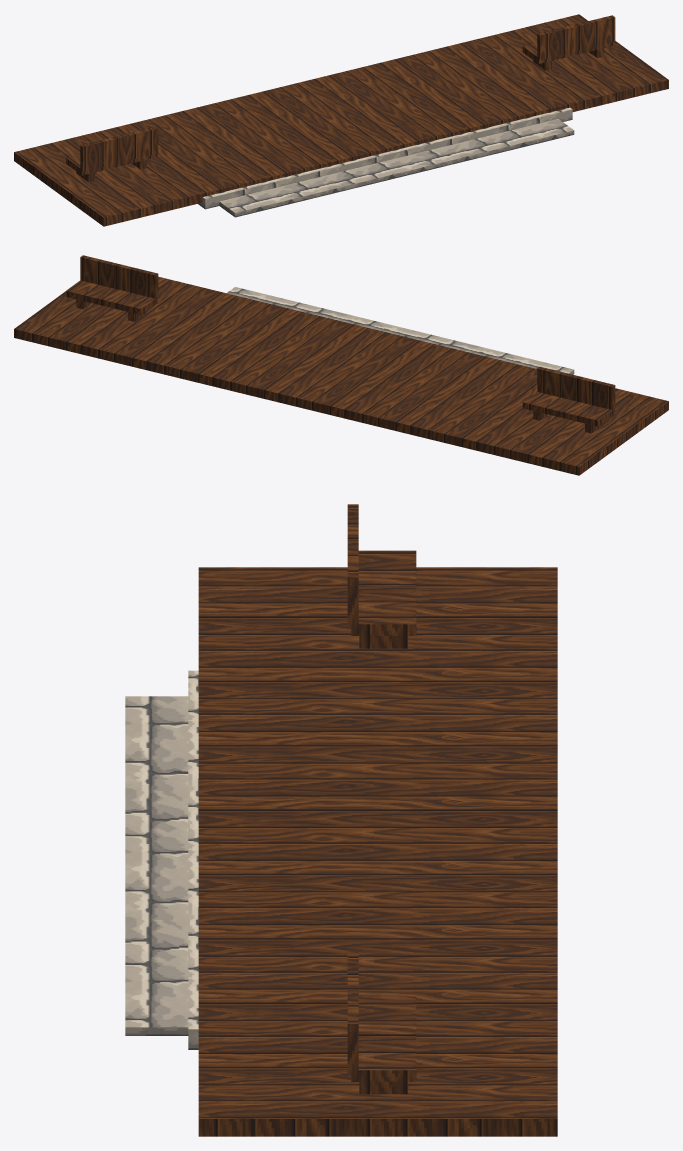
The model's file is SM_GuildHall_Porch.fbx.
3 views of the same model, one above another, from view 1: azimuth 30°, elevation 25°; view 2: azimuth 150°, elevation 25°; view 3: azimuth 270°, elevation 25° (orthographic). The views are drawn at different scales.
Parts seen in each view (by area): view 1: FrontLanding_5, LowerStep_5, FrontLanding_1, UpperStep_1, BenchBack_1.001, BenchBack_1, LowerStep_1, UpperStep_5, FrontLanding_4, BenchSeat_1; view 2: FrontLanding_5, FrontLanding_3, LowerStep_5, BenchBack_3.001, BenchBack_3, BenchSeat_5.001, BenchSeat_5, FrontLanding_4, BenchSeat_3, BenchSeat_3.001; view 3: FrontLanding_5, LowerStep_5, FrontLanding_2, BenchSeat_5, BenchSeat_5.001, UpperStep_5.
Part boxes in pixels (x1=…): FrontLanding_5: x1=14, y1=14, x2=668, y2=217; LowerStep_5: x1=219, y1=119, x2=573, y2=212; FrontLanding_1: x1=103, y1=80, x2=668, y2=226; UpperStep_1: x1=205, y1=109, x2=572, y2=209; BenchBack_1.001: x1=540, y1=17, x2=615, y2=59; BenchBack_1: x1=83, y1=129, x2=158, y2=171; LowerStep_1: x1=235, y1=130, x2=574, y2=217; UpperStep_5: x1=203, y1=107, x2=572, y2=198; FrontLanding_4: x1=14, y1=152, x2=103, y2=226; BenchSeat_1: x1=82, y1=153, x2=157, y2=175; FrontLanding_5: x1=14, y1=276, x2=668, y2=466; FrontLanding_3: x1=14, y1=329, x2=579, y2=475; LowerStep_5: x1=227, y1=287, x2=573, y2=373; BenchBack_3.001: x1=80, y1=257, x2=155, y2=298; BenchBack_3: x1=537, y1=368, x2=612, y2=409; BenchSeat_5.001: x1=66, y1=280, x2=154, y2=308; BenchSeat_5: x1=523, y1=392, x2=611, y2=420; FrontLanding_4: x1=579, y1=401, x2=668, y2=475; BenchSeat_3: x1=522, y1=402, x2=597, y2=426; BenchSeat_3.001: x1=66, y1=291, x2=141, y2=314; FrontLanding_5: x1=198, y1=567, x2=557, y2=1118; LowerStep_5: x1=125, y1=696, x2=188, y2=1027; FrontLanding_2: x1=198, y1=1119, x2=557, y2=1136; BenchSeat_5: x1=358, y1=550, x2=416, y2=624; BenchSeat_5.001: x1=358, y1=996, x2=416, y2=1070; UpperStep_5: x1=188, y1=670, x2=198, y2=1029.
Bounding box in the file's own units: 1200 × 398 × 108.
Materials: 2 (2 with a texture image).
